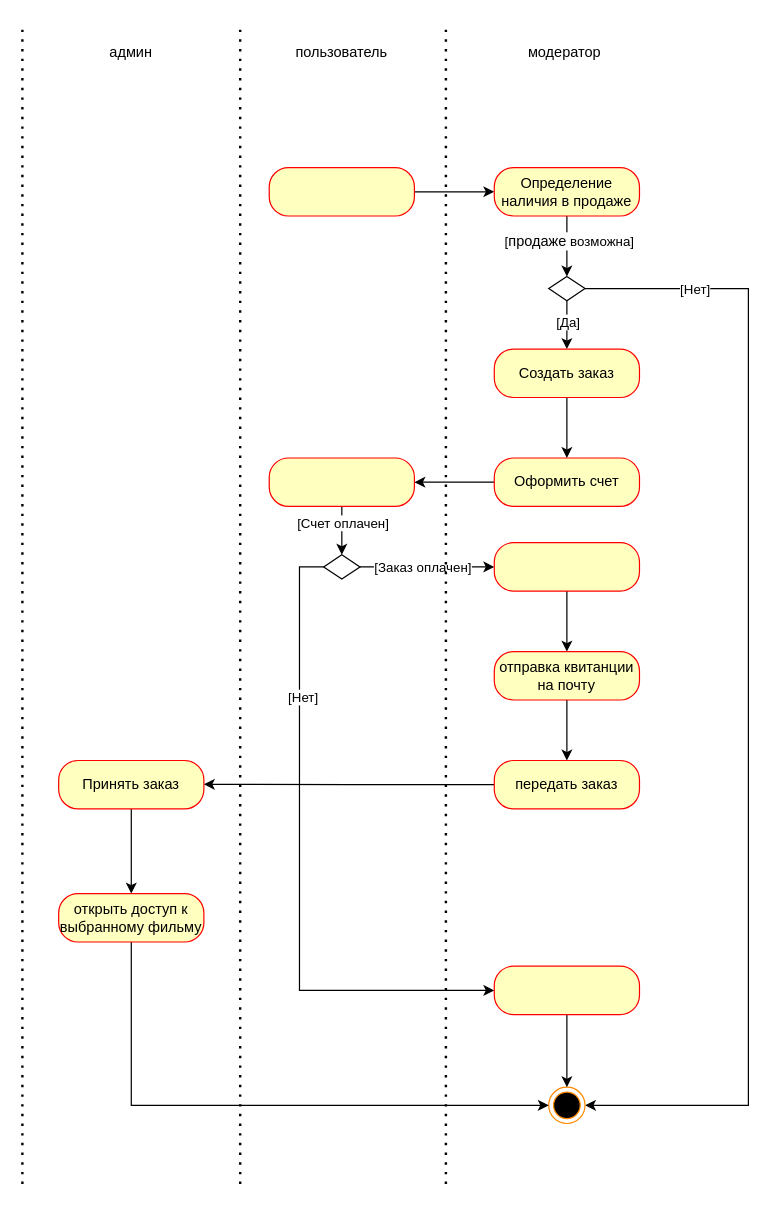
Some shapes in this 779 by 1206 pixel diagram are drawn without their labels. The centre of each missing label's shape, as x and y in pixels:
"Выбор фильма" goes at pixel 341 191.
"Выписка квитанции" goes at pixel 566 566.
"Оплатить счет" goes at pixel 341 481.
"Отмена заказа" goes at pixel 566 990.
